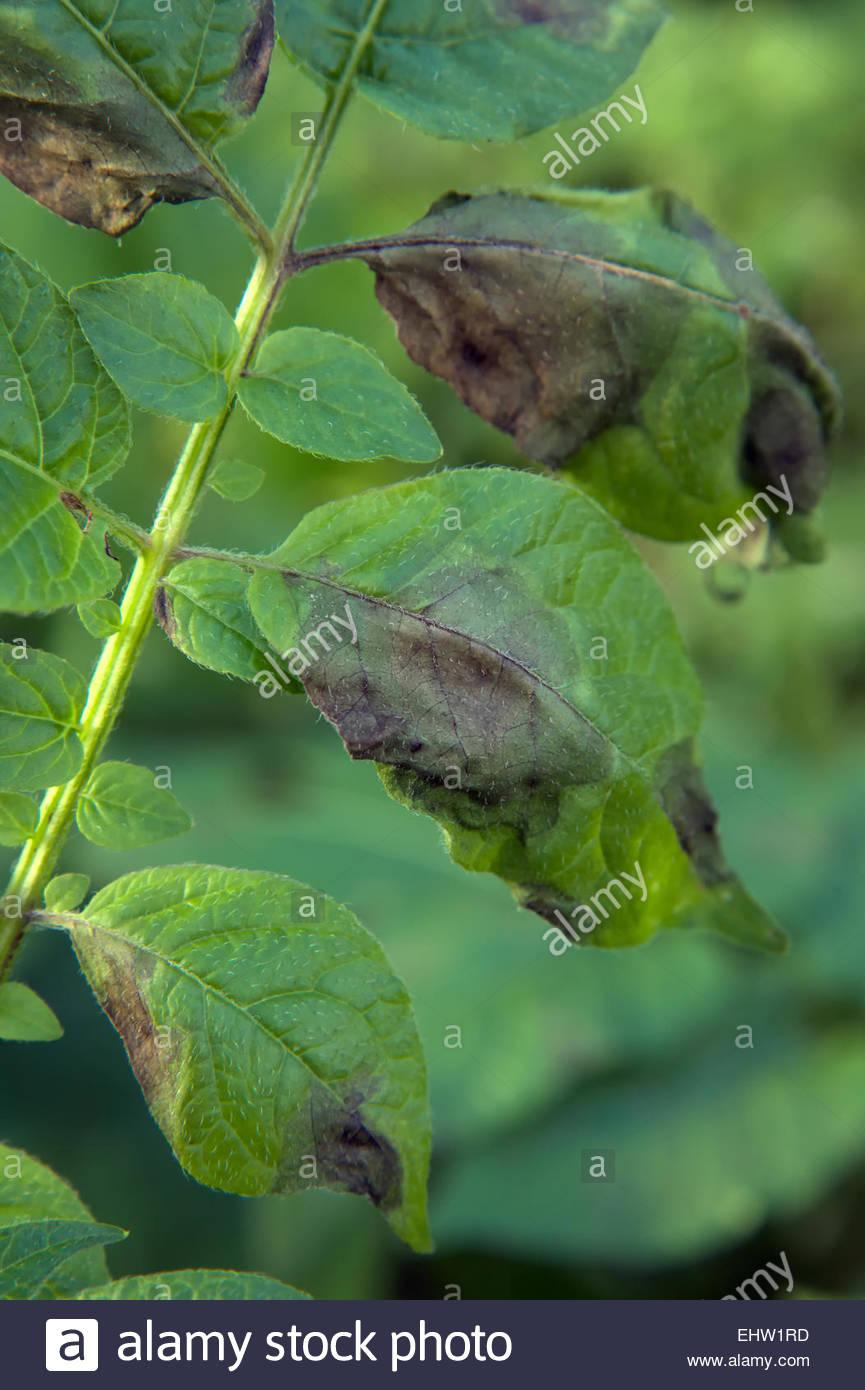Potato leaf: (250, 470, 775, 969), (340, 170, 844, 590), (50, 859, 446, 1284), (1, 1, 293, 251)
